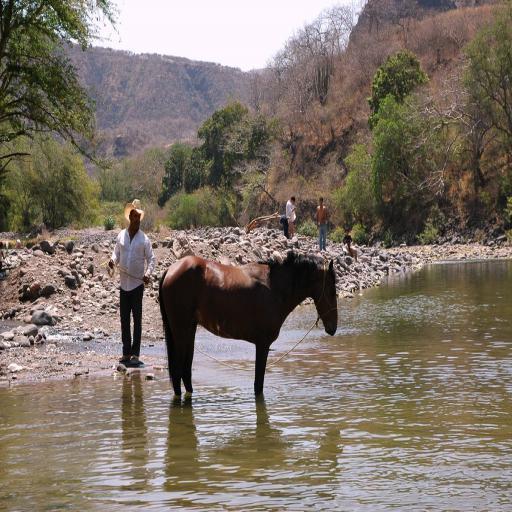horse: (161, 249, 337, 403)
